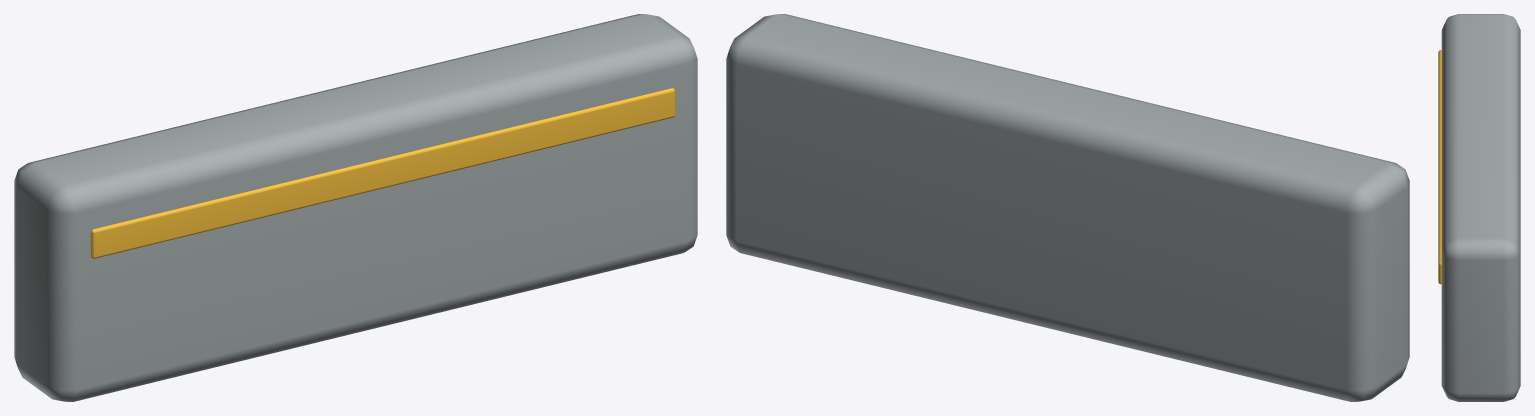
The model's file is Environment_Barrier_Concrete_3m.fbx.
3 renders of one model, left to right at view 1: azimuth 30°, elevation 25°; view 2: azimuth 150°, elevation 25°; view 3: azimuth 270°, elevation 25°, orthographic. The views are drawn at different scales.
Visible parts, largest first — view 1: Roadside_Concrete_Barrier, Barrier_Reflective_Band; view 2: Roadside_Concrete_Barrier; view 3: Roadside_Concrete_Barrier, Barrier_Reflective_Band.
Boxes of the visible parts, <box> form: Roadside_Concrete_Barrier: <box>14,14,697,401</box>; Barrier_Reflective_Band: <box>90,88,675,258</box>; Roadside_Concrete_Barrier: <box>726,14,1409,401</box>; Roadside_Concrete_Barrier: <box>1441,14,1520,401</box>; Barrier_Reflective_Band: <box>1438,50,1441,284</box>.
Size of the model in its own units: 3 by 0.96 by 0.4385.
